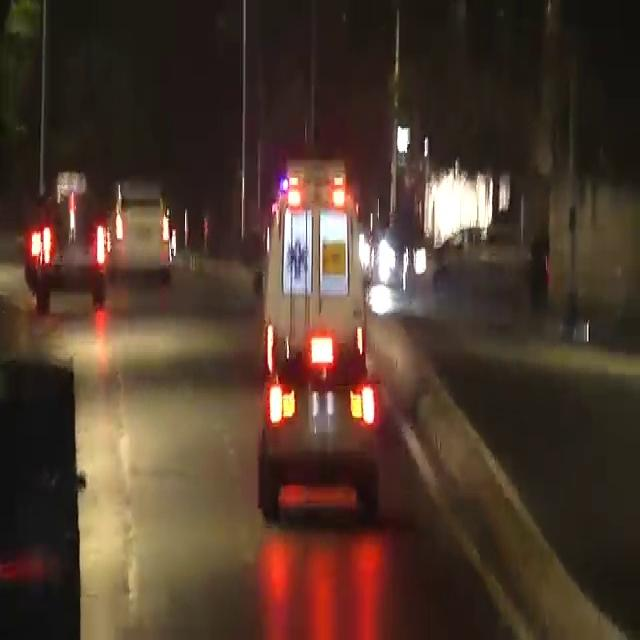ambulance: (244, 147, 373, 357)
